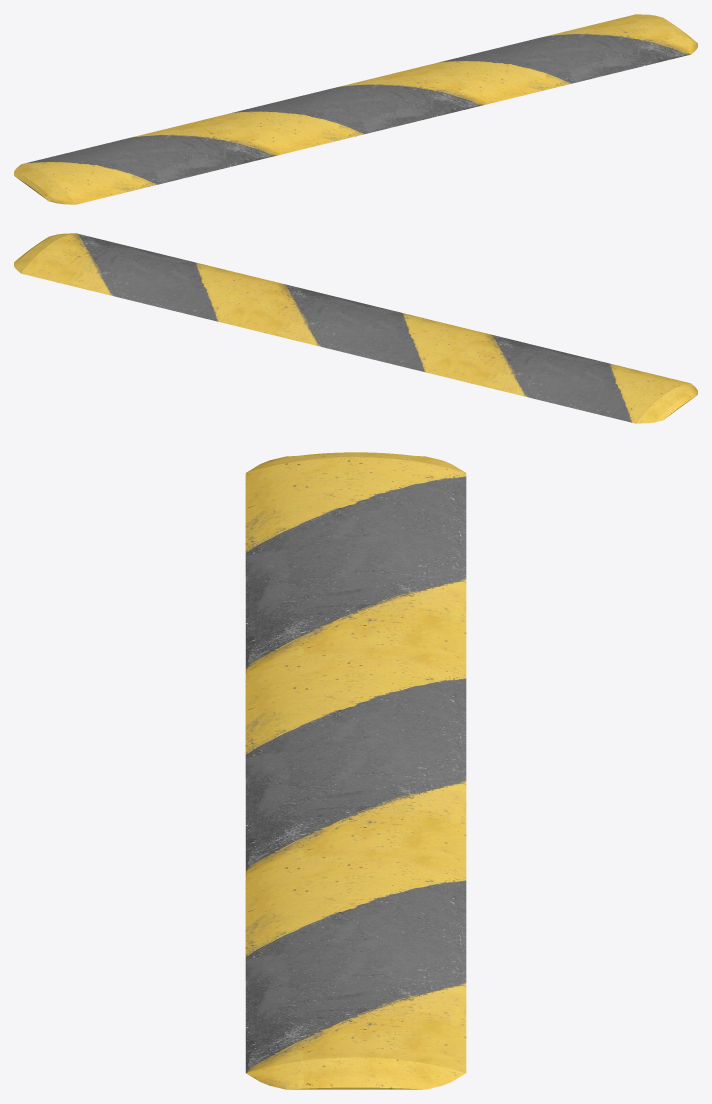
The model's file is bump_3_060.dae.
3 renders of one model, top to bottom at view 1: azimuth 30°, elevation 25°; view 2: azimuth 150°, elevation 25°; view 3: azimuth 270°, elevation 25°, orthographic. The views are drawn at different scales.
Parts seen in each view (by area): view 1: group_0, group_2, group_1; view 2: group_0, group_2, group_1; view 3: group_0, group_1, group_2.
Boxes of the visible parts, <box> form: group_0: <box>21,14,690,204</box>; group_2: <box>14,164,75,204</box>; group_1: <box>637,14,697,54</box>; group_0: <box>21,233,690,423</box>; group_2: <box>636,383,697,423</box>; group_1: <box>14,233,74,273</box>; group_0: <box>245,457,466,1072</box>; group_1: <box>246,1057,465,1089</box>; group_2: <box>246,452,465,472</box>.
Bounding box in the file's own units: 158 × 23.23 × 1.84.
Materials: 1 (1 with a texture image).
